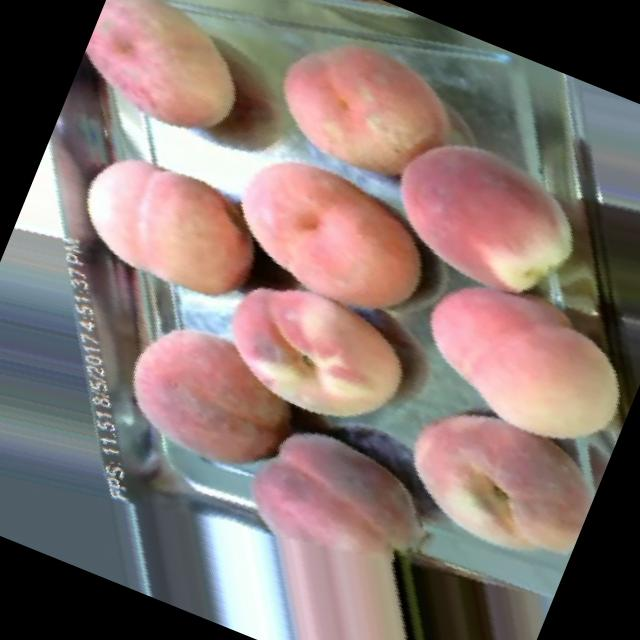Fruit: (176, 399, 527, 640), (347, 90, 620, 340), (377, 227, 640, 474), (358, 367, 614, 598), (202, 124, 469, 339), (43, 116, 297, 338), (185, 254, 442, 463), (90, 290, 336, 508), (244, 0, 489, 202), (63, 0, 284, 168)
